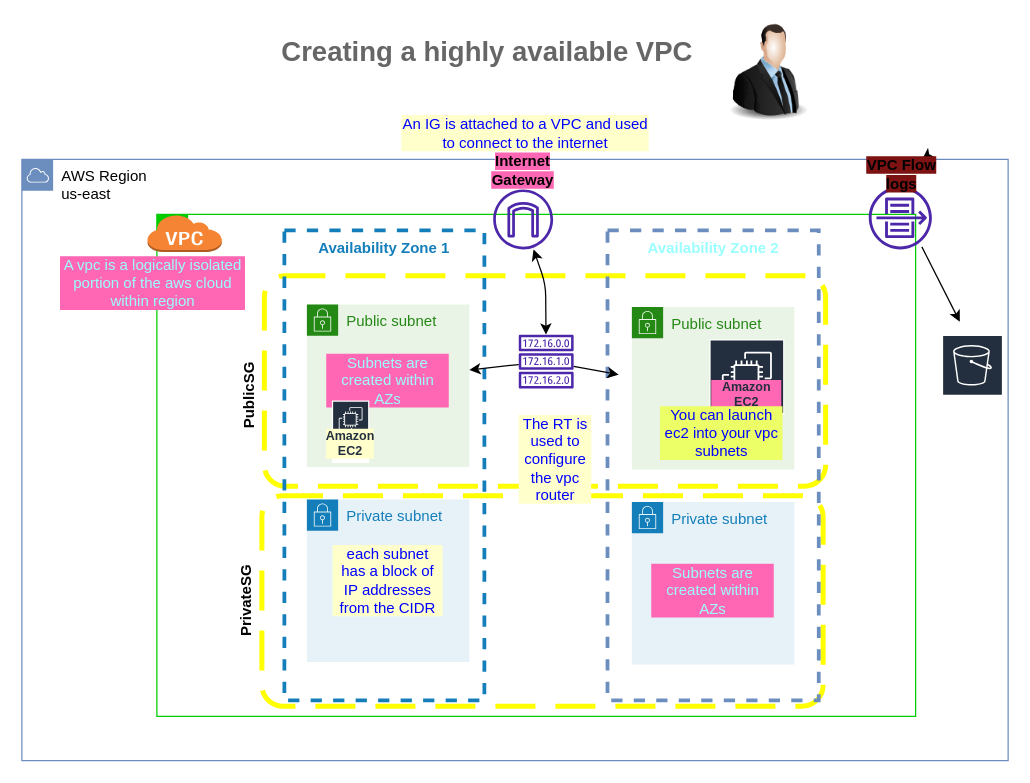
Image size: 1030x783. Some labels were removed from this diagram. Each missing label, with the box of its shape:
Amazon S3: (941, 333, 1003, 427)
PubRT: (518, 334, 573, 388)
